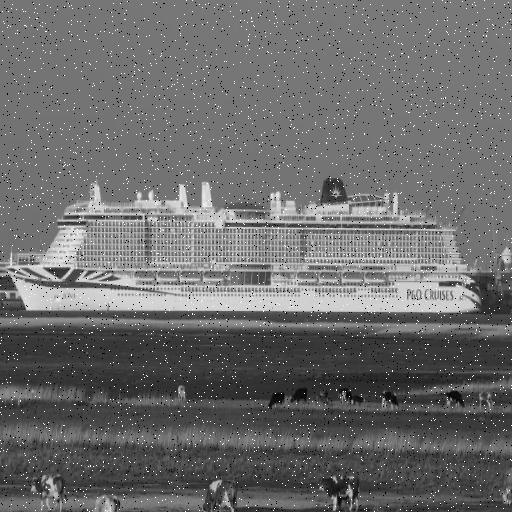cruises: (5, 153, 491, 329)
